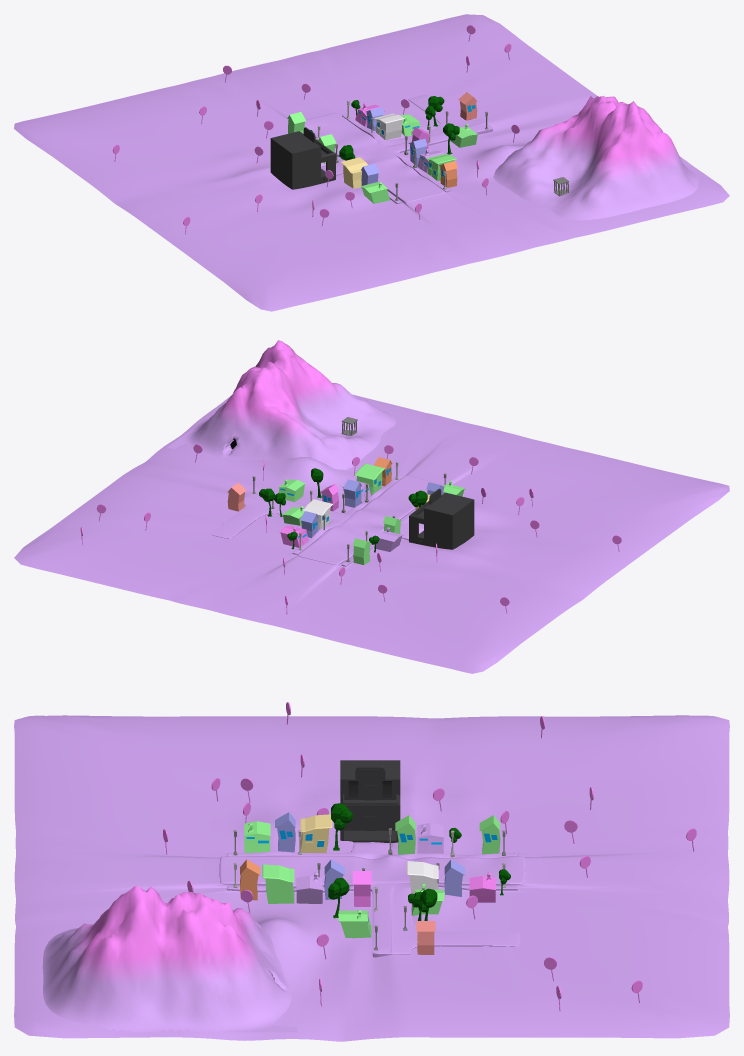
Rendered from cadnyt_cirty_idk.fbx.
The picture shows the model from 3 angles, top to bottom: view 1: azimuth 30°, elevation 25°; view 2: azimuth 150°, elevation 25°; view 3: azimuth 270°, elevation 25°; orthographic projection. The views are drawn at different scales.
Visible parts, largest first — view 1: Plane, Landscape, Cube, Cube.003, Cube.001, Cube.034, Cube.016, Cube.014, Cylinder.001; view 2: Plane, Landscape, Cube, Cube.003, Cube.034, Cube.001, Cube.013, Cube.004; view 3: Plane, Landscape, Cube, Cube.003, Cube.034, Cube.001, Cube.004, Cube.013, Cube.014, Cylinder.002, Cube.016, Cylinder.001 (+3 smaller).
Part boxes in pixels (<box>): Plane: <box>14,14,729,311</box>; Landscape: <box>493,95,698,220</box>; Cube: <box>270,127,335,189</box>; Cube.003: <box>287,112,478,203</box>; Cube.001: <box>361,107,427,185</box>; Cube.034: <box>310,96,459,160</box>; Cube.016: <box>374,113,404,139</box>; Cube.014: <box>340,157,367,188</box>; Cylinder.001: <box>112,100,329,234</box>; Plane: <box>14,394,729,673</box>; Landscape: <box>167,340,396,469</box>; Cube: <box>409,488,474,549</box>; Cube.003: <box>278,463,465,564</box>; Cube.034: <box>259,468,427,552</box>; Cube.001: <box>300,479,444,537</box>; Cube.013: <box>279,484,339,547</box>; Cube.004: <box>342,479,403,551</box>; Plane: <box>14,715,729,1041</box>; Landscape: <box>42,886,297,1032</box>; Cube: <box>340,760,400,842</box>; Cube.003: <box>244,815,500,938</box>; Cube.034: <box>328,803,510,920</box>; Cube.001: <box>275,812,464,899</box>; Cube.004: <box>296,823,443,903</box>; Cube.013: <box>352,871,495,906</box>; Cube.014: <box>300,814,332,852</box>; Cylinder.002: <box>240,778,477,1006</box>; Cube.016: <box>406,861,438,893</box>; Cylinder.001: <box>211,702,593,843</box>.
Size of the model in its own units: 5848 by 1019 by 5499.
